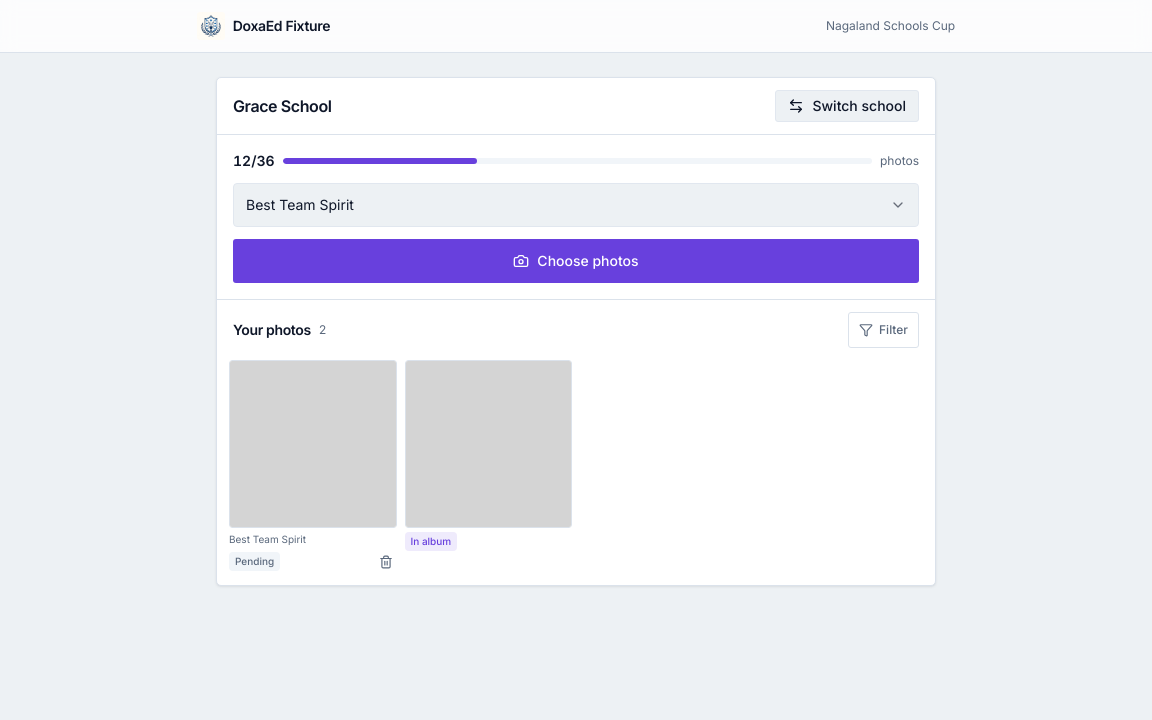
Test: LensUploadPage › locks the picker while a full category is selected, and defaults to one with room
The width and height of the screenshot is (1152, 720).
Expected: the file field with test id "file-input" is enabled, [233,239,919,283]
Click the button with aria-label "Photo category".
click(300, 204)  # box [233,183,919,227]
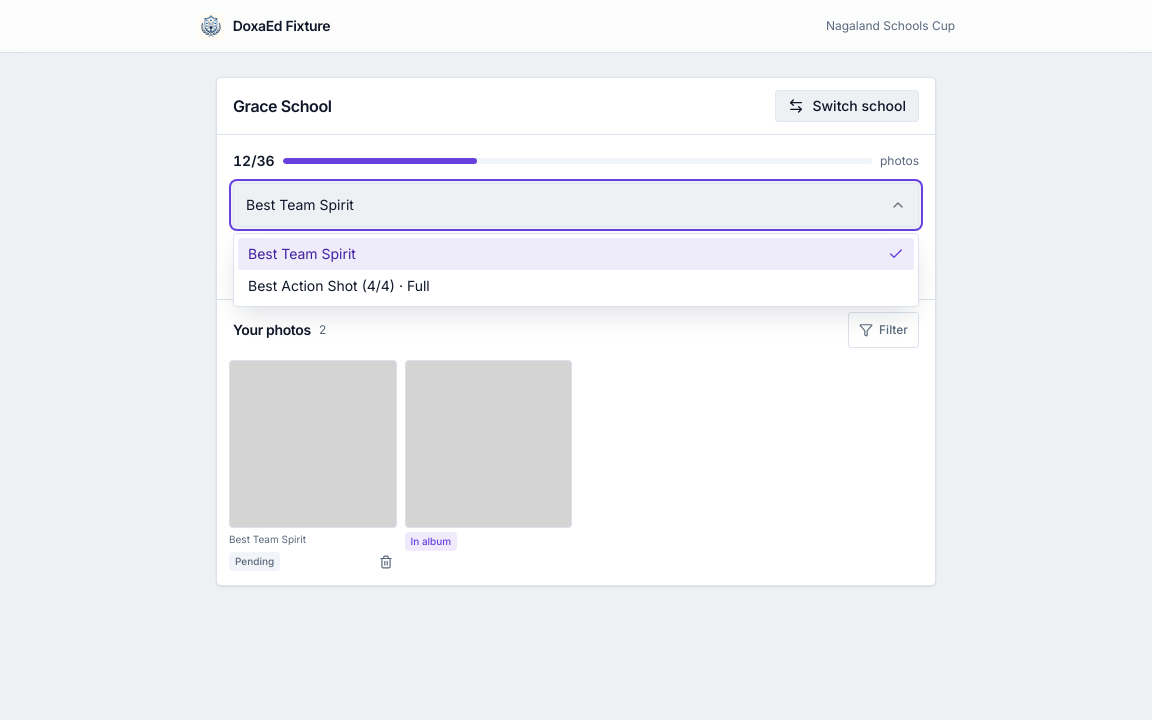
# The full category says so right in the option list.
Click the option "Best Action Shot (4/4) · Full".
click(339, 286)  # box [248,277,430,294]
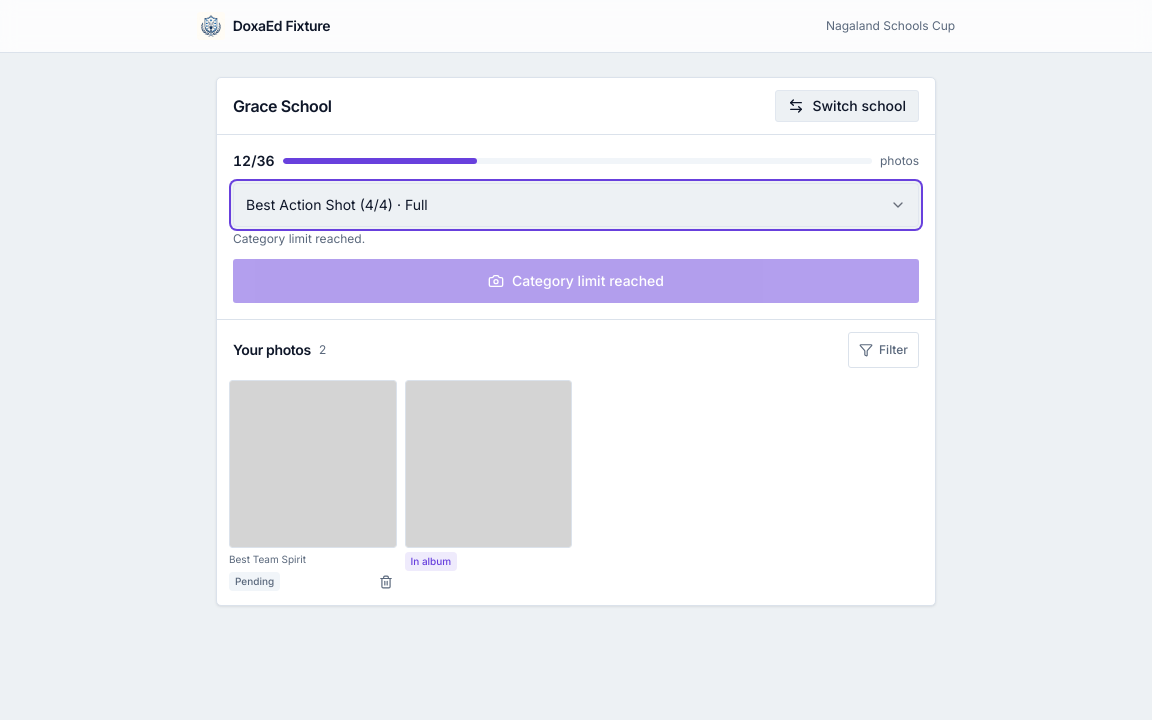
Expected: the file field with test id "file-input" is disabled, [233,259,919,303]
Expected: the text "Category limit reached" is shown, [233,259,919,303]
Expected: the text "Category limit reached." is shown, [233,231,365,246]
